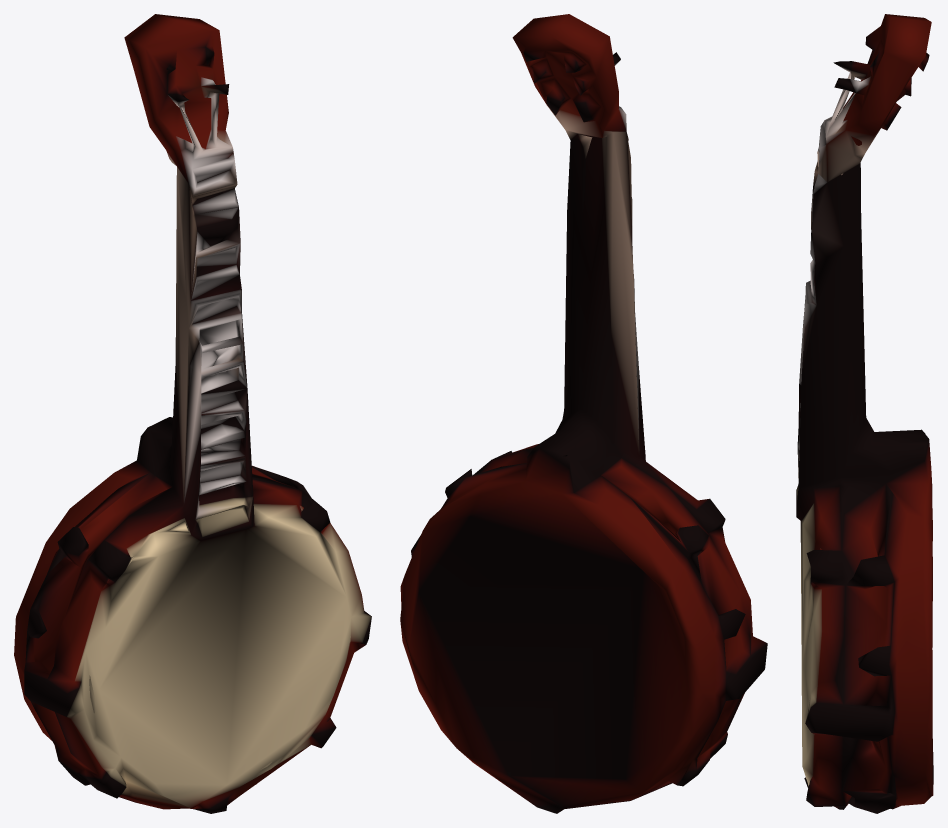
Rendered from gen3d-banjo-lod1.glb.
3 views of the same model, side by side, from view 1: azimuth 30°, elevation 25°; view 2: azimuth 150°, elevation 25°; view 3: azimuth 270°, elevation 25° (orthographic). The views are drawn at different scales.
Visible parts, largest first — view 1: part_0; view 2: part_0; view 3: part_0.
Part boxes in pixels (box(x1,y1,x2,y2)): part_0: box(14, 14, 371, 813); part_0: box(400, 14, 767, 813); part_0: box(796, 14, 933, 813).
Bounding box in the file's own units: 0.4317 × 0.9996 × 0.1589.
